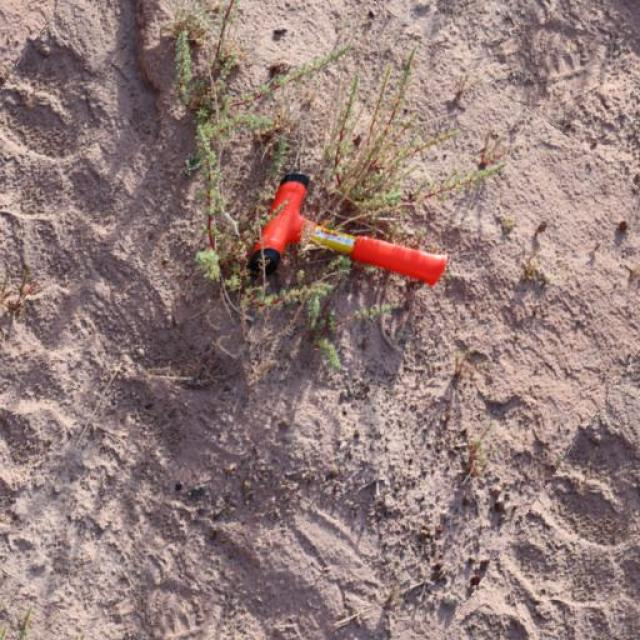mallet: (248, 172, 450, 288)
